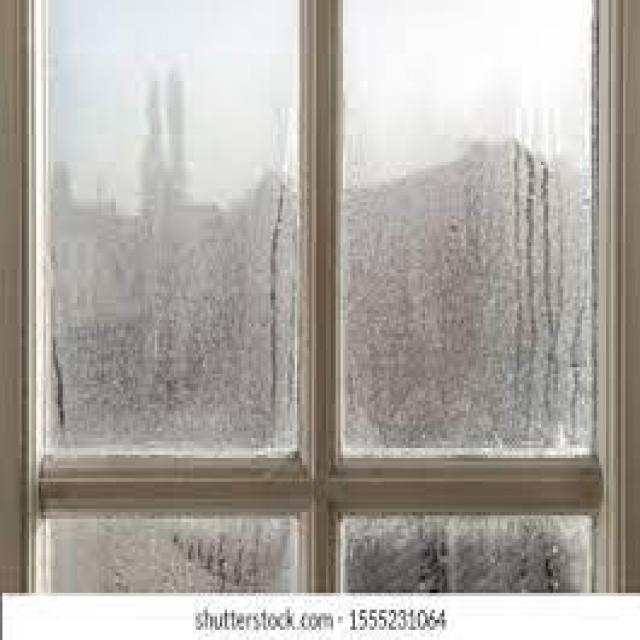Window: (20, 0, 313, 483), (333, 0, 611, 482)
